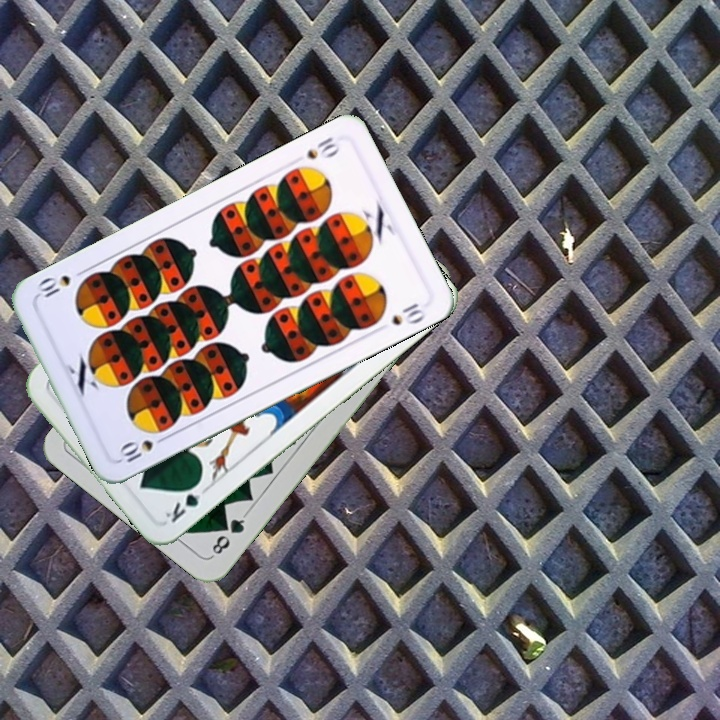G8: (207, 509, 249, 559)
GK: (161, 476, 212, 526)
S10: (115, 431, 171, 465), (302, 132, 342, 162)
